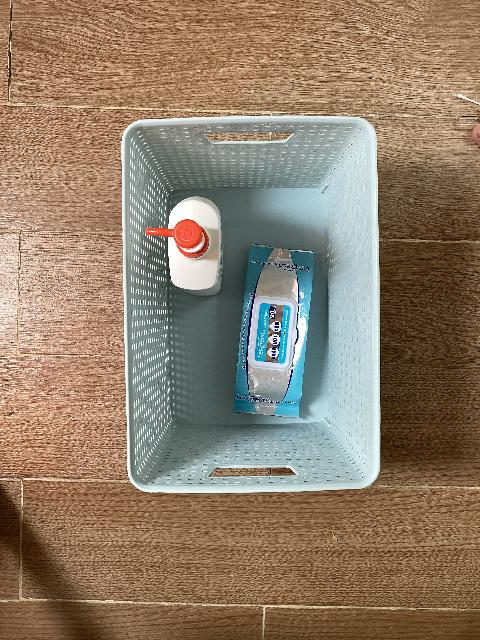Let-green_alcohol_wipes: (233, 243, 314, 421)
cart: (121, 115, 381, 494)
life-buoy: (145, 196, 224, 297)
